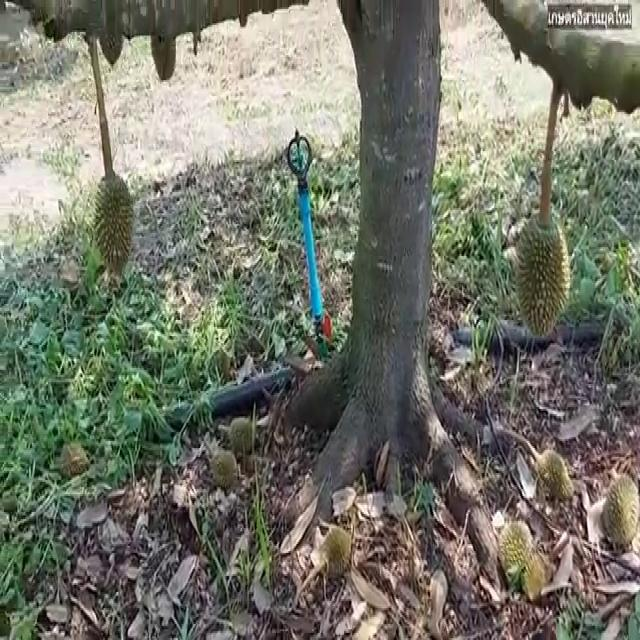durian: (513, 204, 572, 342), (494, 513, 549, 605), (92, 171, 137, 279), (597, 469, 639, 550), (310, 520, 354, 583), (534, 447, 578, 505), (207, 448, 240, 490)
